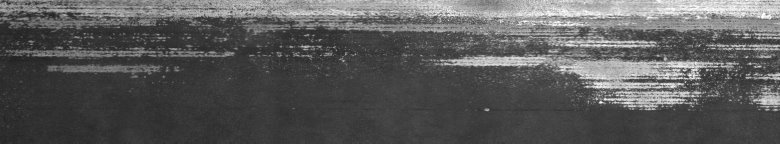kb: (488, 11, 776, 116)
